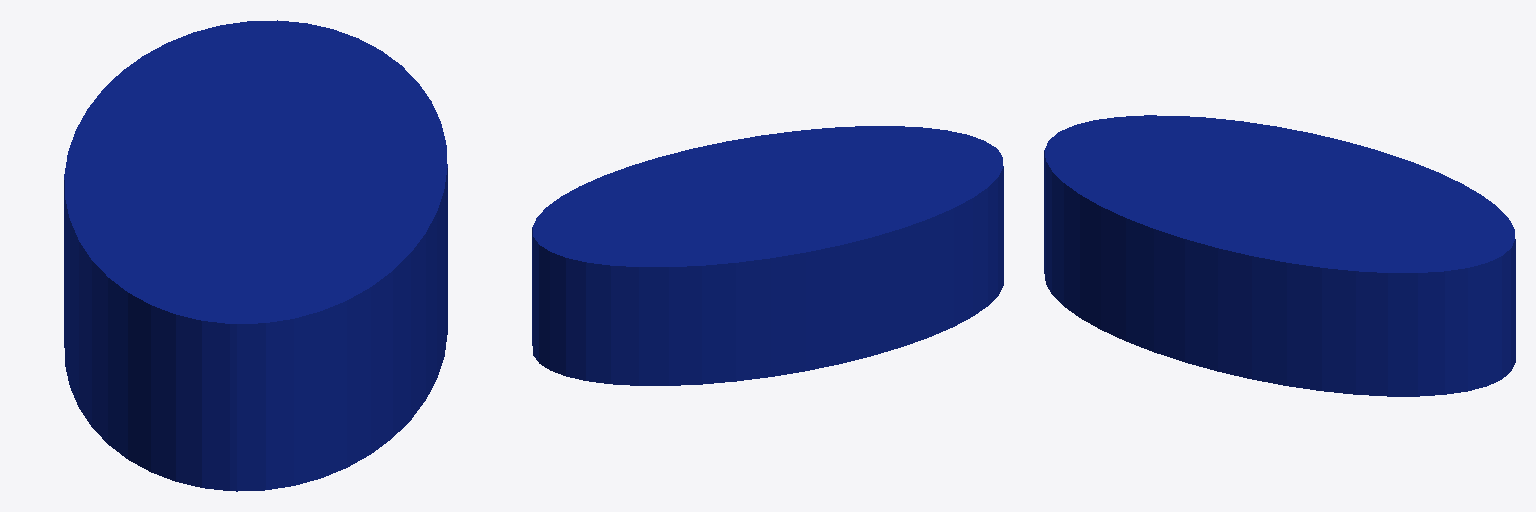
robot.urdf — block:
<robot name="block">
  <link name="block_base_link">

    <inertial>
      <origin rpy="0 0 0" xyz="0.02667 0.01508 0.015"/>
      <mass value="0.05"/>
      <inertia ixx="0.000128415" ixy="4.8175e-05" ixz="-2.0000000000000002e-11" iyy="8.5547e-05" iyz="-2.0000000000000002e-11" izz="0.000188246"/>
    </inertial>
    <collision>
      
      <geometry>
        <mesh filename="23.STL" scale="1 1 1"/>
      </geometry>
    </collision>
    <visual>
 
      <geometry>
        <mesh filename="23.STL" scale="1 1 1"/>
      </geometry>
      <material name="tray_material">
        <color rgba="0.1 0.2 0.6 1"/>
      </material>
    </visual>
  </link>
</robot>

--- What the picture shows (computed from the rendered views, not written in the file) ---
Views: 3 orthographic renders of the robot side by side, from view 1: azimuth 30°, elevation 25°; view 2: azimuth 150°, elevation 25°; view 3: azimuth 270°, elevation 25°.
Model block with 1 links and 0 joints (none), rooted at block_base_link, posed every joint at zero.
Links seen in each view (by area): view 1: block_base_link; view 2: block_base_link; view 3: block_base_link.
Boxes of the visible links, x1,y1,x2,y2 form: block_base_link: [64, 20, 447, 491]; block_base_link: [532, 126, 1003, 385]; block_base_link: [1044, 115, 1515, 396].
Size in the robot's own frame: 0.0822 by 0.1037 by 0.03 metres.
Meshes: 1 distinct files referenced, 1 mesh visuals loaded (1 binary STL).